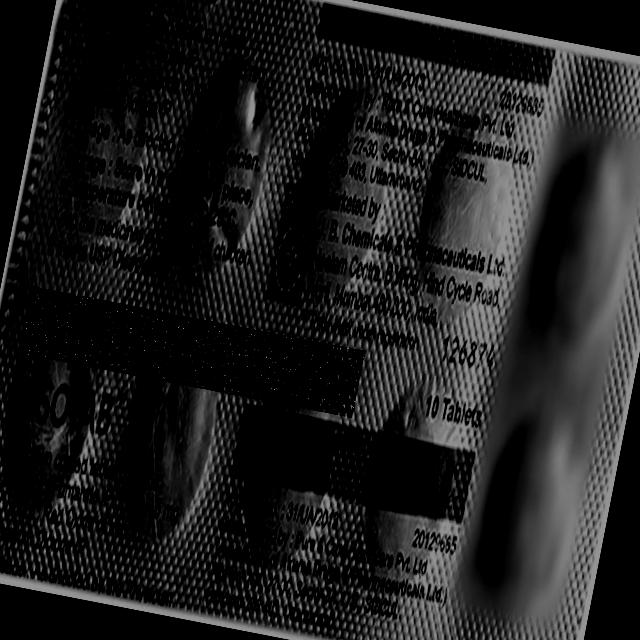Medicine-name: (20, 288, 366, 419)
